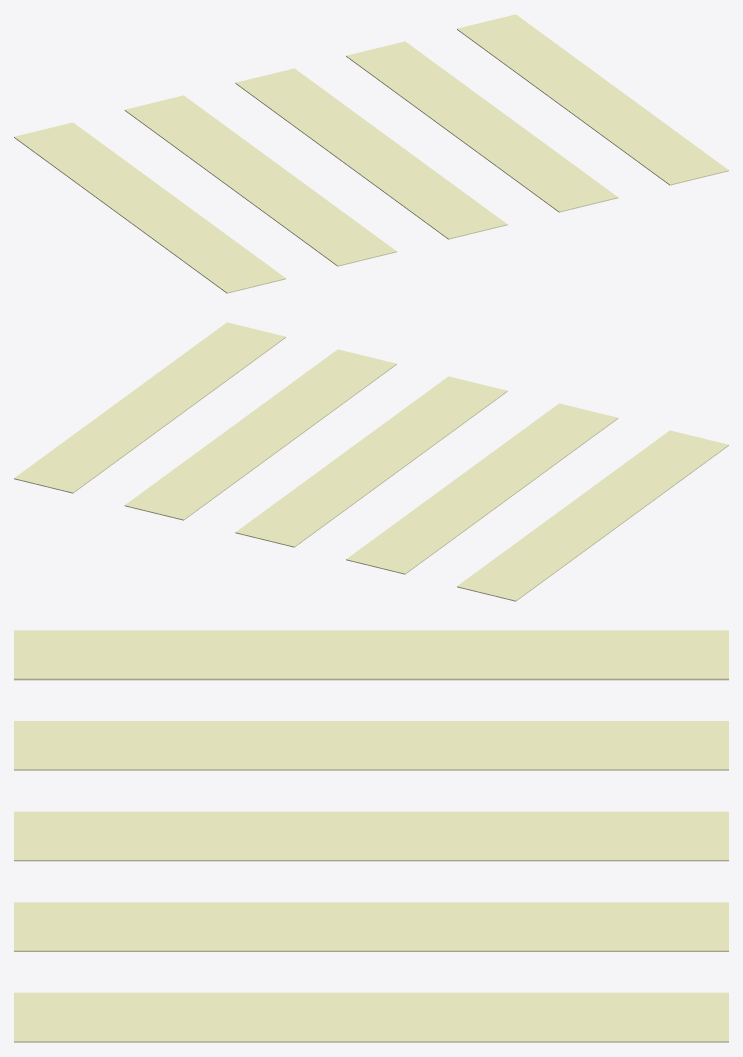
The model's file is marking_crosswalk.glb.
The picture shows the model from 3 angles, top to bottom: view 1: azimuth 30°, elevation 25°; view 2: azimuth 150°, elevation 25°; view 3: azimuth 270°, elevation 25°; orthographic projection. The views are drawn at different scales.
Parts seen in each view (by area): view 1: stripe_2, stripe_1, stripe_3, stripe_0, stripe_4; view 2: stripe_2, stripe_1, stripe_3, stripe_0, stripe_4; view 3: stripe_0, stripe_2, stripe_4, stripe_1, stripe_3.
Part boxes in pixels (x1,y1,x2,y2): stripe_2: (235,68,507,239); stripe_1: (124,95,396,266); stripe_3: (346,41,618,212); stripe_0: (14,122,285,293); stripe_4: (457,14,728,185); stripe_2: (235,376,507,547); stripe_1: (346,403,618,574); stripe_3: (124,349,396,520); stripe_0: (457,430,728,601); stripe_4: (14,322,285,493); stripe_0: (14,630,728,680); stripe_2: (14,811,728,861); stripe_4: (14,992,728,1042); stripe_1: (14,721,728,770); stripe_3: (14,902,728,951).
Size of the model in its own units: 2.72 by 0.005 by 2.
